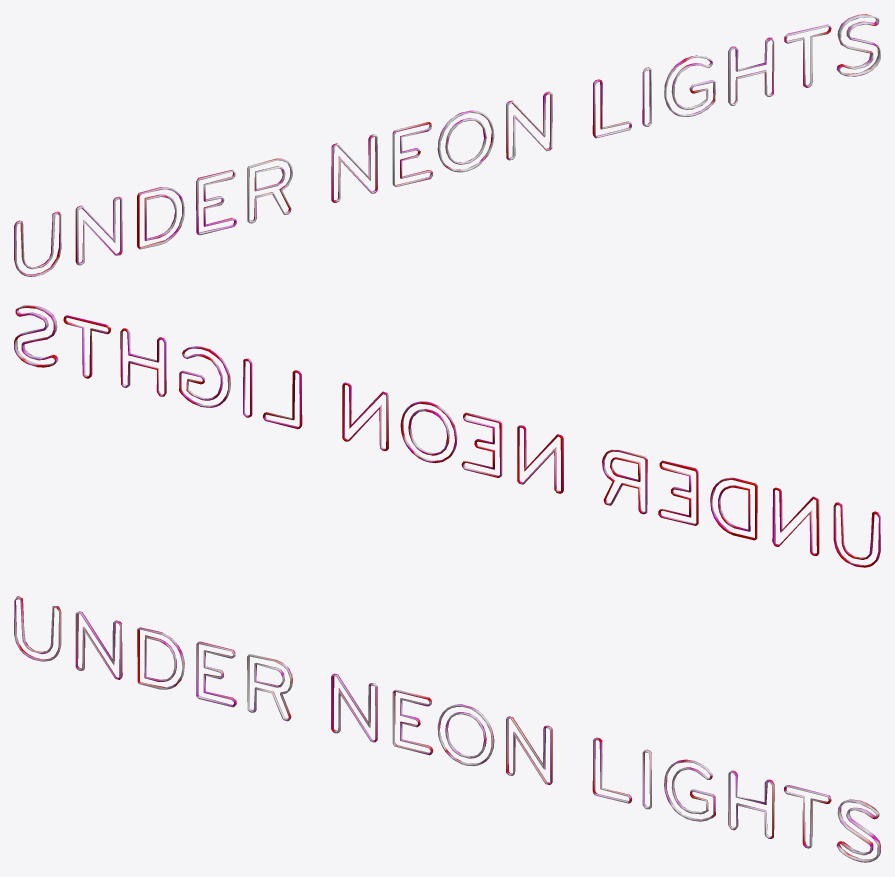
File: mdl_env_1-forst_UNL_title.fbx
3 renders of one model, top to bottom at view 1: azimuth 30°, elevation 25°; view 2: azimuth 150°, elevation 25°; view 3: azimuth 330°, elevation 25°, orthographic.
Visible parts, largest first — view 1: UNL; view 2: UNL; view 3: UNL.
Boxes of the visible parts, x1,y1,x2,y2 form: UNL: (14, 14, 880, 276); UNL: (14, 305, 880, 567); UNL: (14, 596, 880, 862).
Bounding box in the file's own units: 43.71 × 2.91 × 0.2489.
